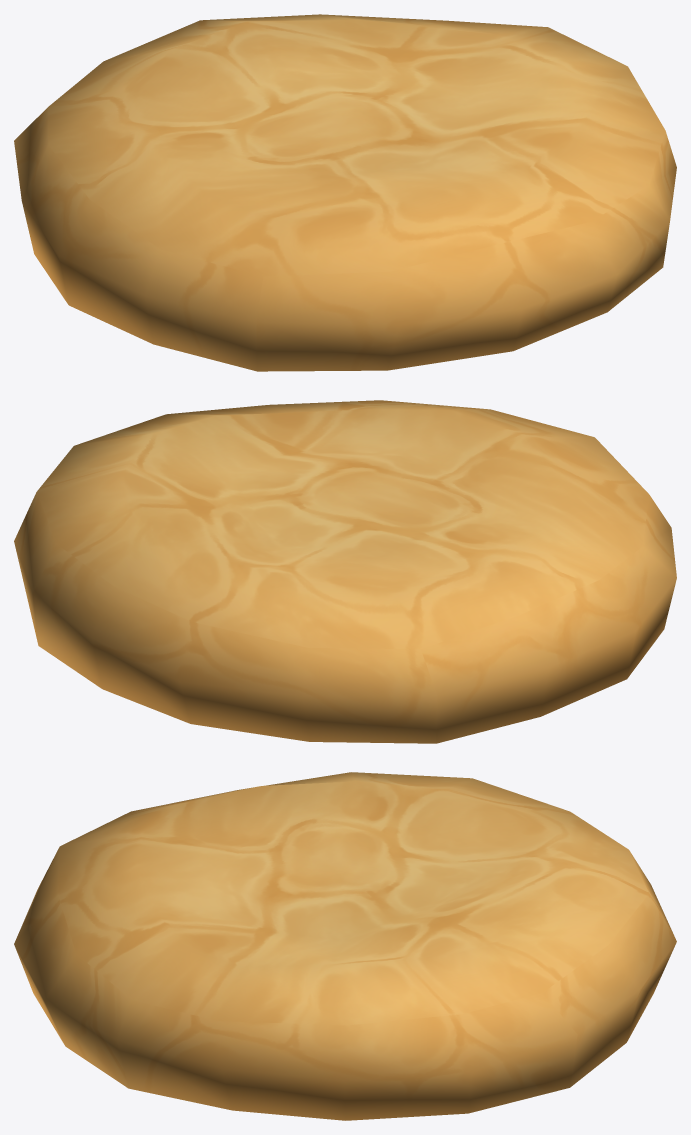
File: cookiePlain.gltf
The picture shows the model from 3 angles, top to bottom: view 1: azimuth 30°, elevation 25°; view 2: azimuth 150°, elevation 25°; view 3: azimuth 270°, elevation 25°; orthographic projection.
Visible parts, largest first — view 1: Cylinder; view 2: Cylinder; view 3: Cylinder.
Part boxes in pixels (x1,y1,x2,y2): Cylinder: [14, 14, 676, 371]; Cylinder: [14, 400, 676, 743]; Cylinder: [14, 772, 676, 1120].
Bounding box in the file's own units: 1.42 × 0.3013 × 1.42.
